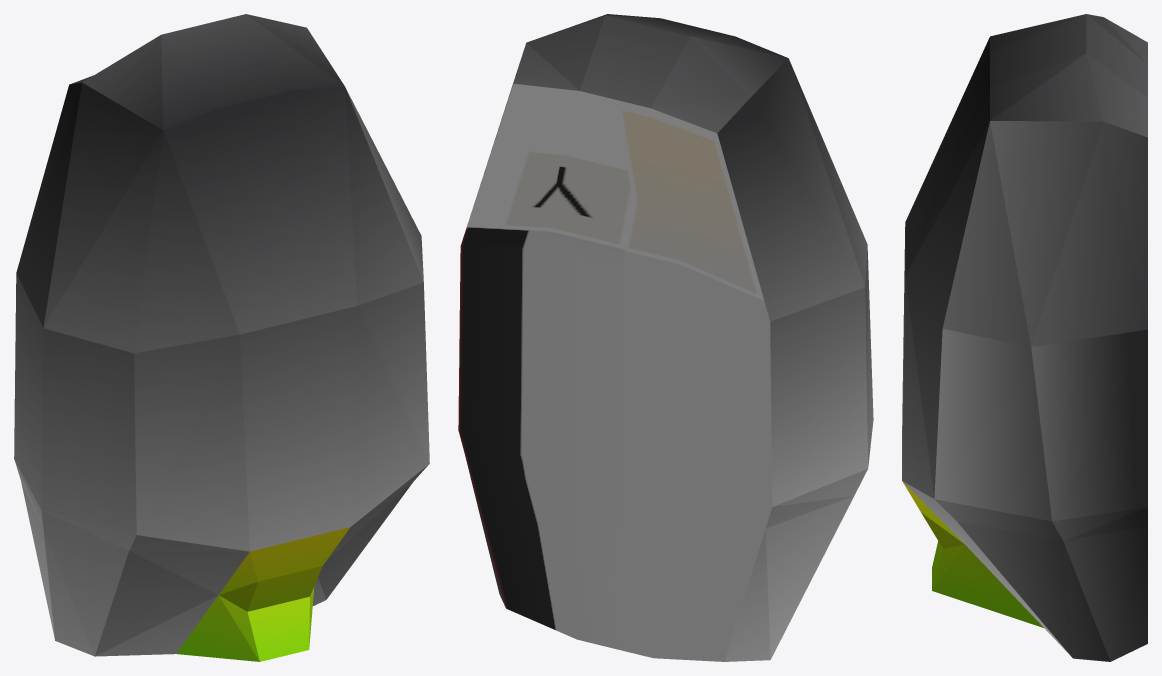
Rendered from mouse.fbx.
3 renders of one model, left to right at view 1: azimuth 30°, elevation 25°; view 2: azimuth 150°, elevation 25°; view 3: azimuth 270°, elevation 25°, orthographic. The views are drawn at different scales.
Parts seen in each view (by area): view 1: Mouse_Body; view 2: Mouse_Body; view 3: Mouse_Body.
Boxes of the visible parts, left/top/right/bottom form: Mouse_Body: left=14, top=14, right=429, bottom=661; Mouse_Body: left=458, top=14, right=873, bottom=661; Mouse_Body: left=902, top=14, right=1147, bottom=661.
Size of the model in its own units: 25.01 by 38.27 by 14.59.
